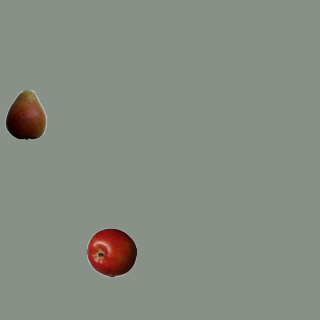Apple Braeburn: (86, 227, 136, 277)
Pear Forelle: (0, 89, 50, 139)
